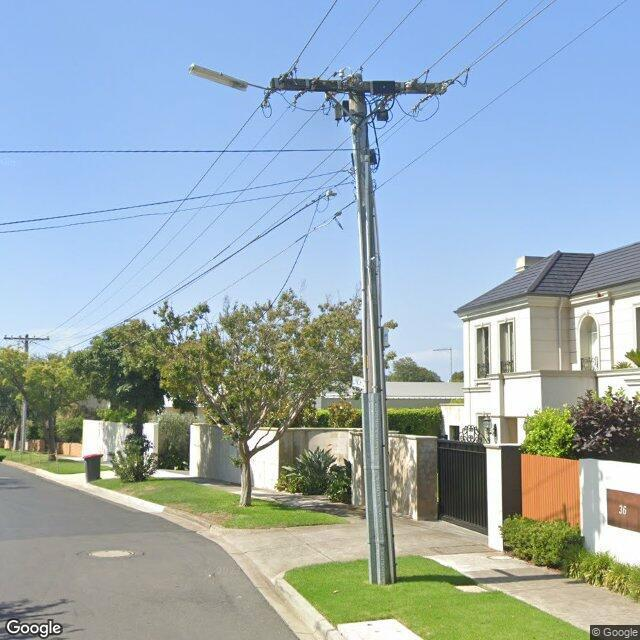crossarm: (271, 73, 451, 102)
streetlight: (188, 63, 269, 94)
timber-pole: (347, 73, 397, 586)
